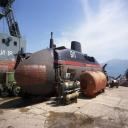submarine: (17, 39, 110, 95)
